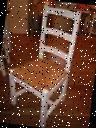Silla: (3, 2, 84, 127)
